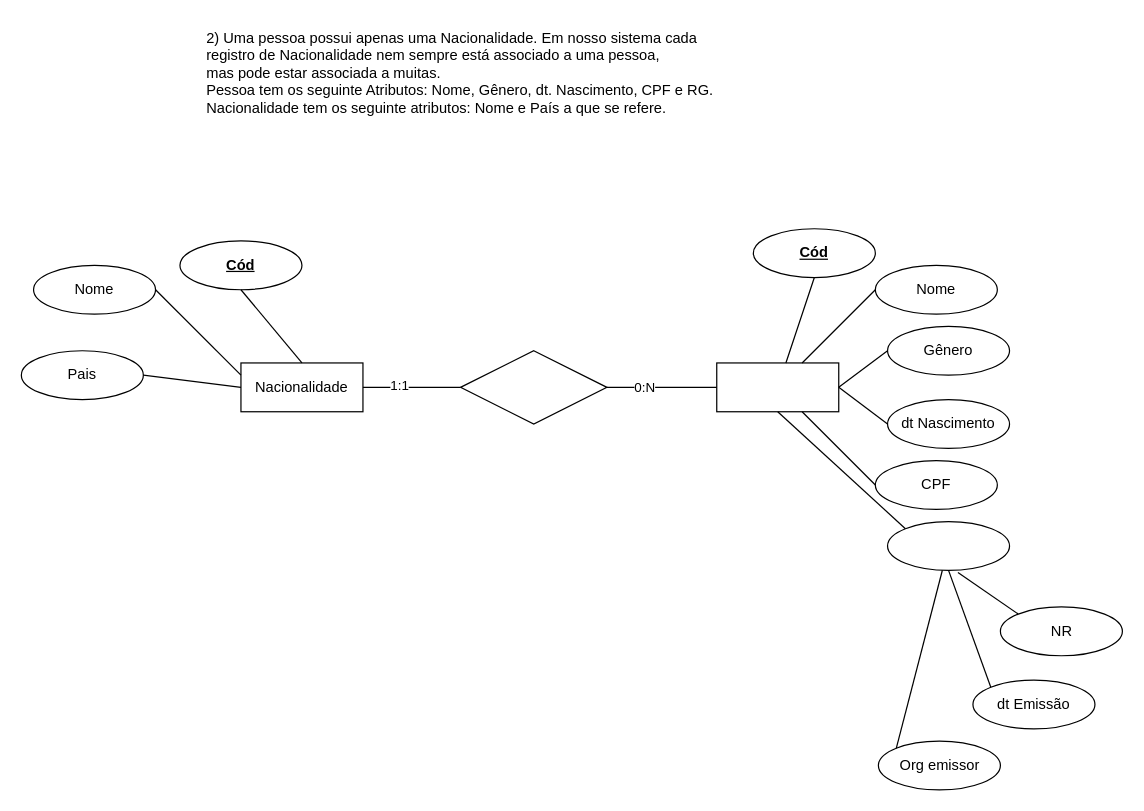
Some shapes in this 1144 by 811 pixel diagram are drawn without their labels. The centre of each missing label's shape, as x and y in pixels:
Pessoa: (777,387)
Possui: (533,387)
RG: (948,545)
